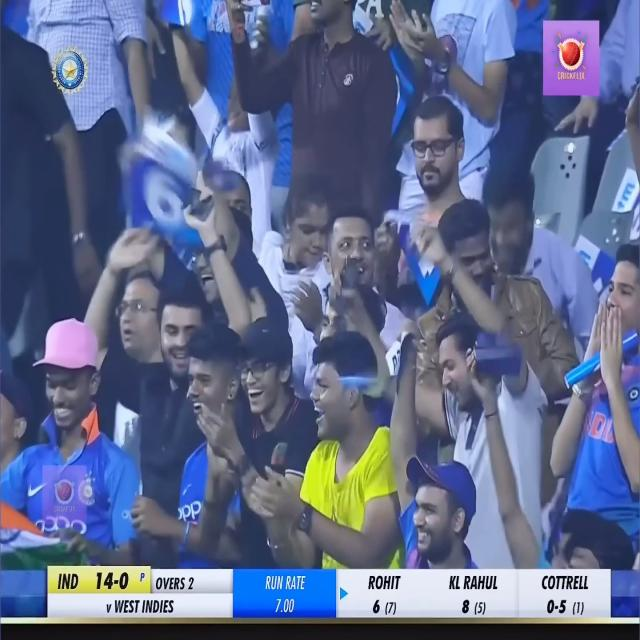partially_visible: (612, 154, 640, 233)
